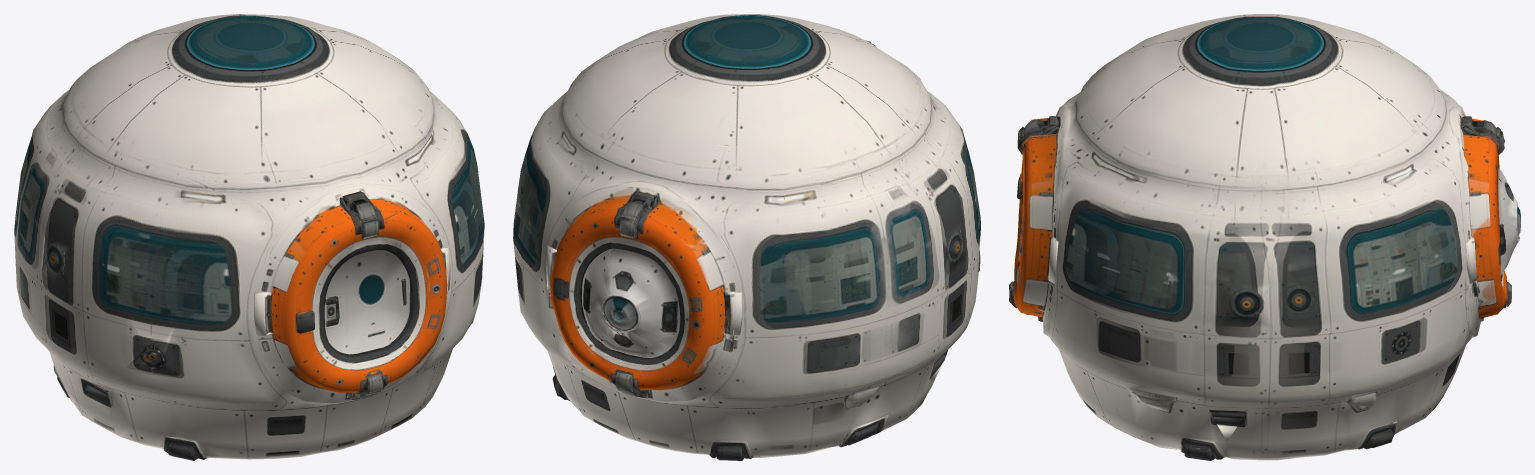
File: AW-MOON-HABITAT-001-v0.2.glb
3 renders of one model, left to right at view 1: azimuth 30°, elevation 25°; view 2: azimuth 150°, elevation 25°; view 3: azimuth 270°, elevation 25°, orthographic.
Visible parts, largest first — view 1: AW-MOON-HABITAT-001_meter_ground_pivot; view 2: AW-MOON-HABITAT-001_meter_ground_pivot; view 3: AW-MOON-HABITAT-001_meter_ground_pivot.
Boxes of the visible parts, x1=… form: AW-MOON-HABITAT-001_meter_ground_pivot: x1=14, y1=14, x2=484, y2=460; AW-MOON-HABITAT-001_meter_ground_pivot: x1=513, y1=14, x2=980, y2=460; AW-MOON-HABITAT-001_meter_ground_pivot: x1=1009, y1=14, x2=1520, y2=460.
Bounding box in the file's own units: 6.09 × 5 × 6.59.
Materials: 1 (1 with a texture image).
